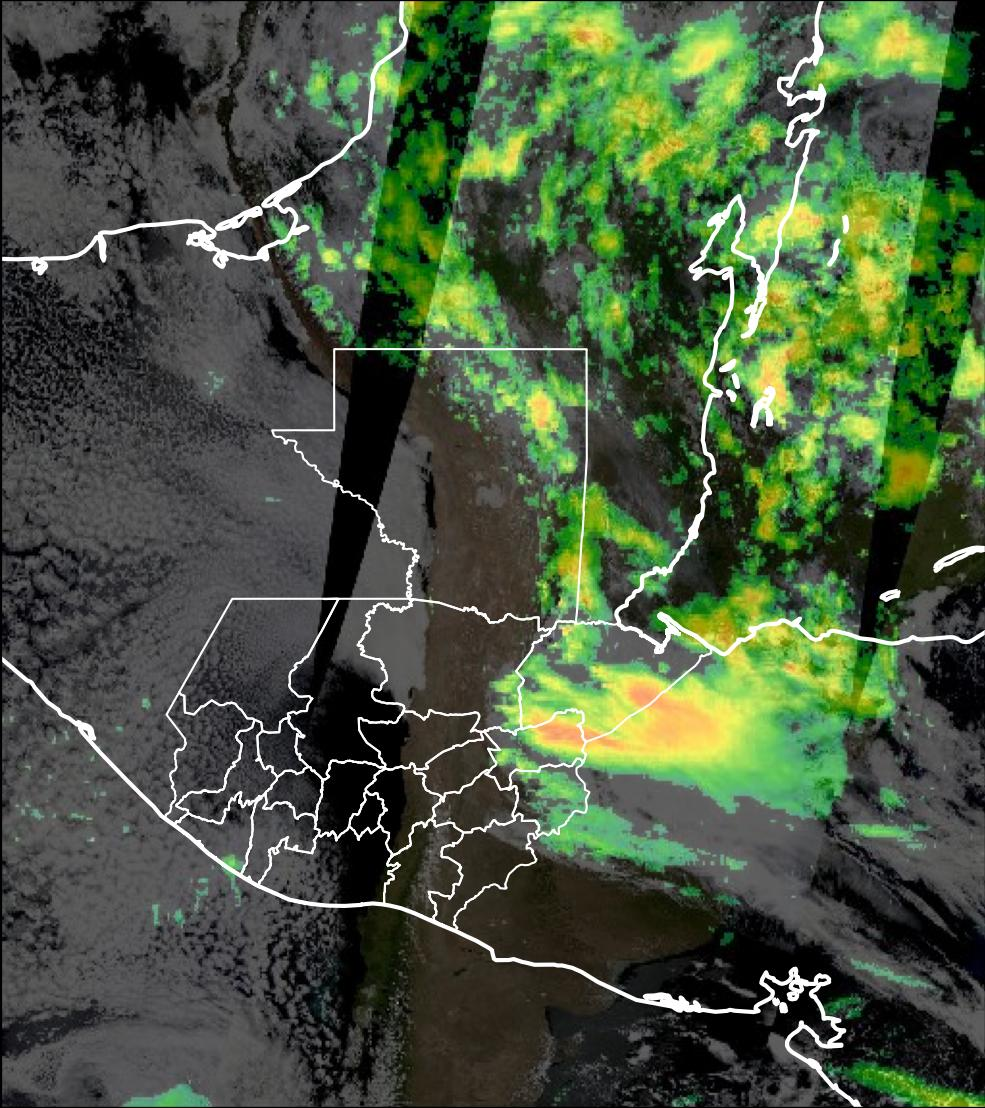precipitacion: (510, 671, 733, 765)
